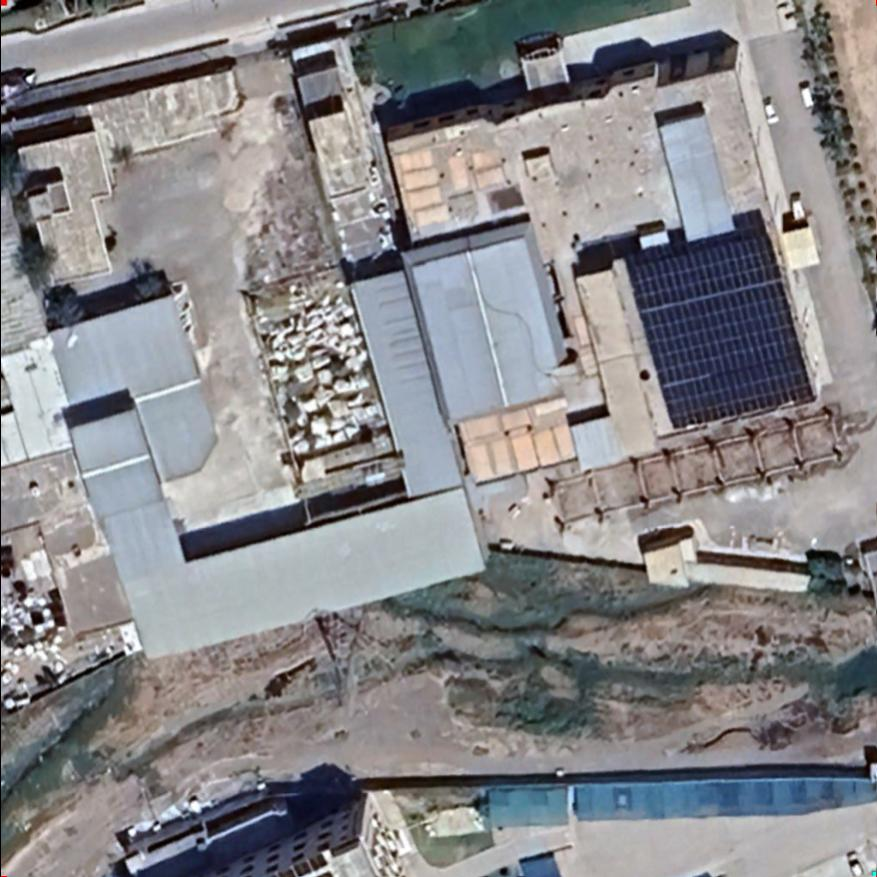Solarpanel: (614, 218, 817, 440)
